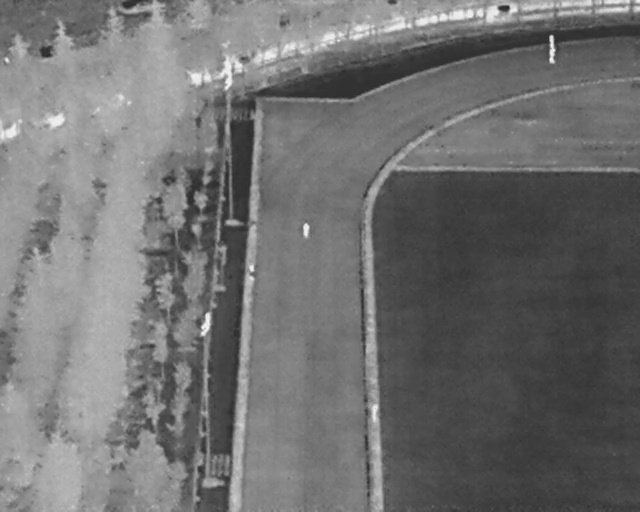Person: (369, 402, 379, 424), (301, 221, 311, 240), (548, 46, 557, 65), (248, 263, 256, 282), (548, 33, 556, 50)
